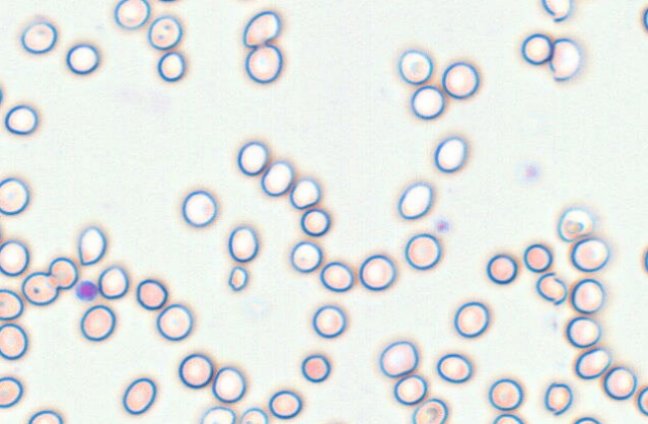PLT: (75, 277, 99, 303), (431, 217, 450, 235)
RBC: (379, 340, 418, 378), (244, 44, 282, 83), (242, 10, 280, 48), (441, 61, 479, 99), (358, 254, 396, 291), (404, 232, 441, 270), (156, 303, 193, 341), (570, 236, 609, 272), (557, 205, 594, 242), (397, 181, 433, 219), (181, 189, 217, 227), (453, 301, 489, 338), (211, 366, 246, 403), (80, 304, 115, 341), (122, 377, 156, 415), (21, 271, 58, 305), (20, 20, 57, 54), (433, 135, 467, 172), (602, 365, 637, 400), (178, 353, 213, 388), (147, 15, 182, 50), (398, 49, 433, 84), (571, 278, 605, 314), (574, 346, 611, 379), (410, 85, 445, 119), (260, 160, 293, 196), (312, 304, 346, 338), (488, 378, 523, 411), (565, 316, 601, 348), (227, 225, 258, 262), (0, 176, 29, 215), (77, 226, 106, 265), (520, 32, 553, 65), (65, 43, 99, 75), (237, 140, 268, 175), (436, 353, 472, 383), (0, 239, 29, 276), (113, 0, 150, 29), (535, 272, 567, 305), (135, 278, 168, 310), (289, 240, 322, 272), (393, 374, 427, 405), (98, 265, 129, 299), (319, 261, 353, 292), (4, 104, 38, 135), (0, 323, 28, 360), (289, 177, 321, 209), (268, 389, 302, 419), (48, 256, 78, 289), (486, 253, 517, 284), (300, 353, 331, 383), (411, 398, 448, 423), (544, 382, 572, 415), (157, 51, 185, 82), (523, 243, 552, 272), (300, 208, 330, 236), (0, 288, 23, 320), (0, 376, 23, 408), (540, 0, 572, 22), (200, 406, 235, 423), (27, 409, 63, 424), (239, 407, 268, 423), (637, 385, 648, 416), (491, 413, 524, 423), (572, 416, 601, 423), (642, 244, 648, 274), (642, 5, 648, 33), (0, 216, 3, 245), (0, 84, 3, 107), (155, 0, 182, 2), (228, 0, 264, 1)
Schistocyte: (552, 35, 582, 79), (227, 266, 248, 292)
